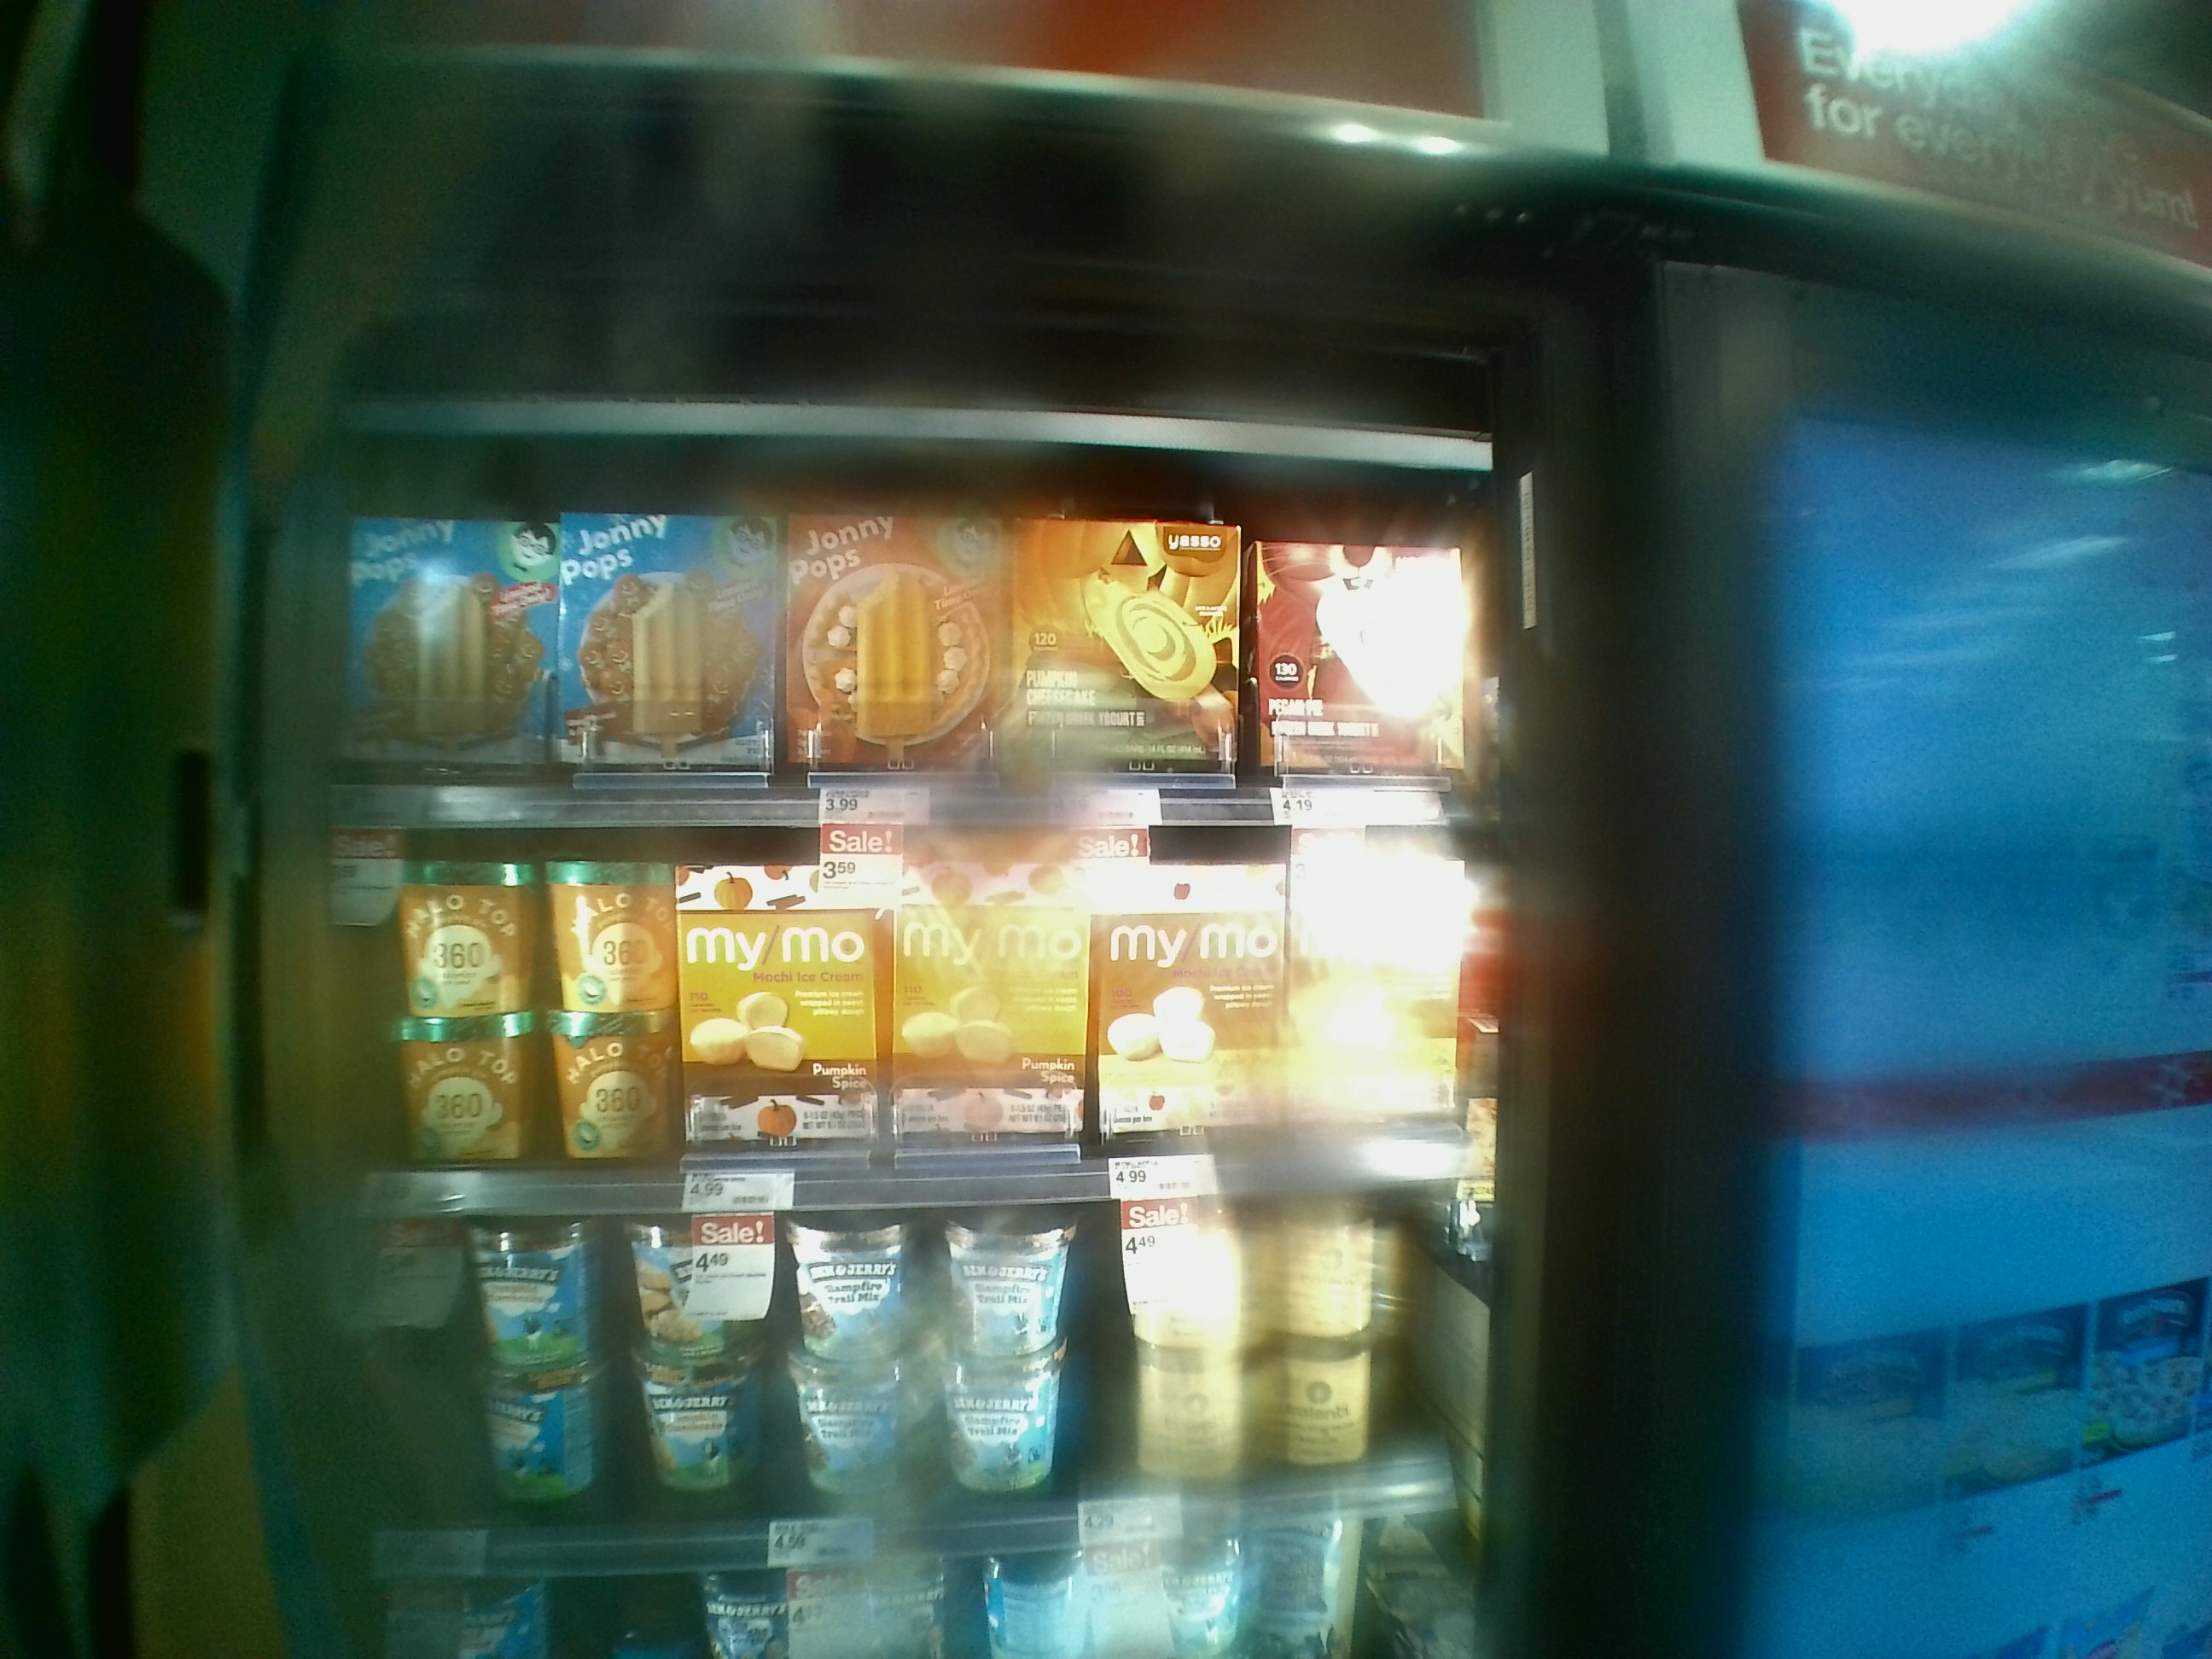shelf: (298, 427, 1493, 829), (298, 796, 1507, 1190), (289, 1159, 1479, 1546)
